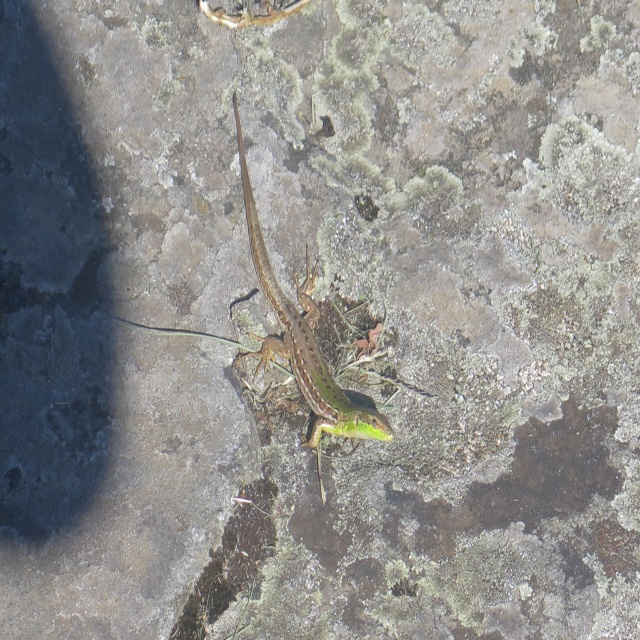Lizard: (198, 107, 397, 495)
